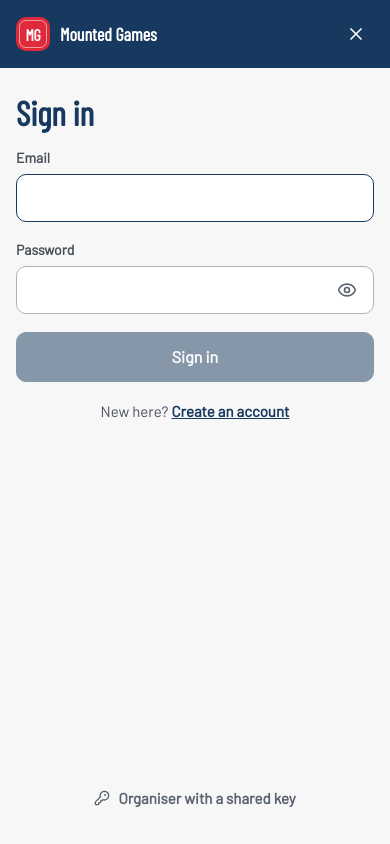
Test: LoginPage › keeps Sign in disabled until both fields are filled
The image size is (390, 844).
expect the button "Sign in" is disabled: met, box [16, 332, 374, 382]
In the field labelled "Email": (195, 198) [29, 176, 361, 220], type "sam@example.com"
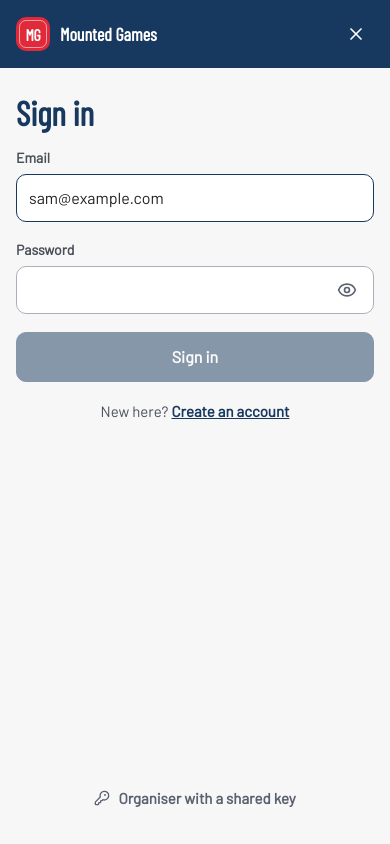
expect the button "Sign in" is disabled: met, box [16, 332, 374, 382]
In the password field labelled "Password": (173, 290) [29, 268, 317, 312], type "secret"
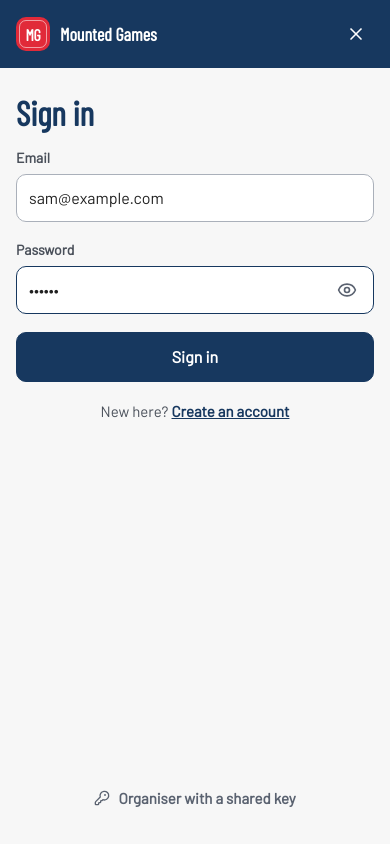
expect the button "Sign in" is enabled: met, box [16, 332, 374, 382]
